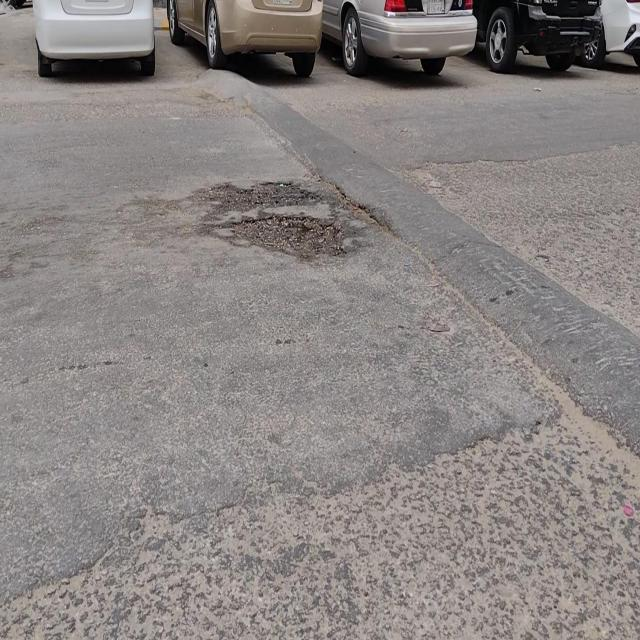Potholes: (214, 182, 341, 261)
